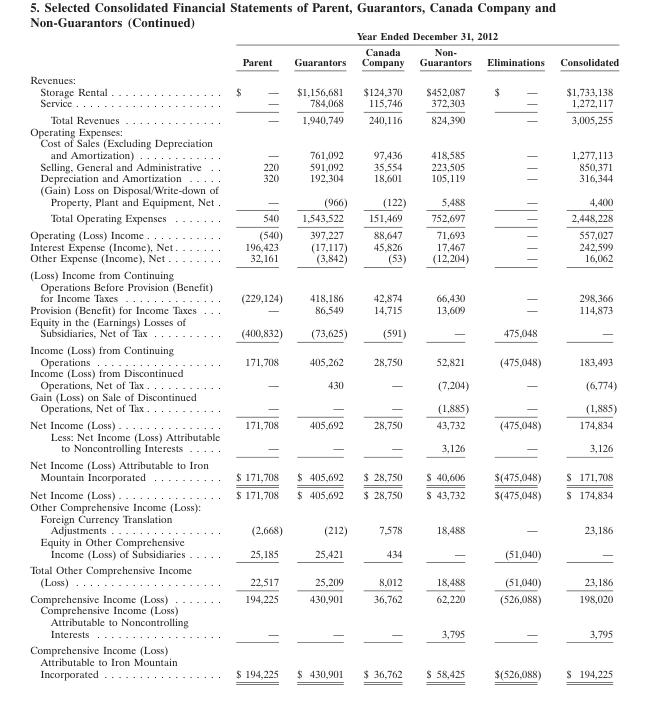table: (29, 29, 618, 679)
table column: (29, 29, 227, 679), (478, 29, 551, 679), (551, 29, 618, 679), (287, 29, 353, 679), (412, 29, 478, 679), (227, 29, 287, 679), (353, 29, 412, 679)
table column header: (29, 29, 618, 70)
table projected row header: (29, 70, 618, 85), (29, 500, 618, 512), (29, 125, 618, 136)
table row: (29, 603, 618, 641), (29, 641, 618, 679), (29, 266, 618, 303), (29, 456, 618, 485), (29, 561, 618, 589), (29, 43, 618, 70), (29, 183, 618, 209), (29, 315, 618, 341), (29, 430, 618, 456), (29, 535, 618, 561), (29, 341, 618, 366), (29, 390, 618, 415), (29, 136, 618, 160), (29, 366, 618, 390), (29, 512, 618, 535), (29, 209, 618, 226), (29, 70, 618, 85), (29, 96, 618, 111), (29, 251, 618, 266), (29, 415, 618, 430), (29, 485, 618, 500), (29, 29, 618, 43), (29, 111, 618, 125), (29, 226, 618, 240), (29, 589, 618, 603), (29, 171, 618, 183), (29, 303, 618, 315), (29, 500, 618, 512), (29, 85, 618, 96), (29, 125, 618, 136), (29, 160, 618, 171), (29, 240, 618, 251)
table spanning cell: (227, 29, 618, 43)
